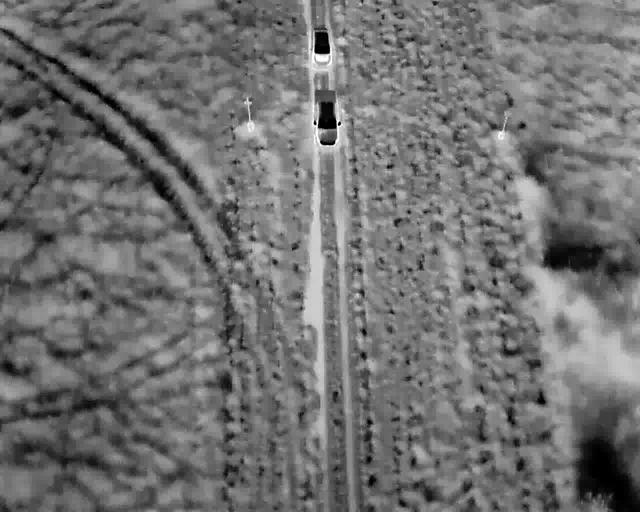car: (312, 87, 341, 148), (309, 25, 334, 67)
